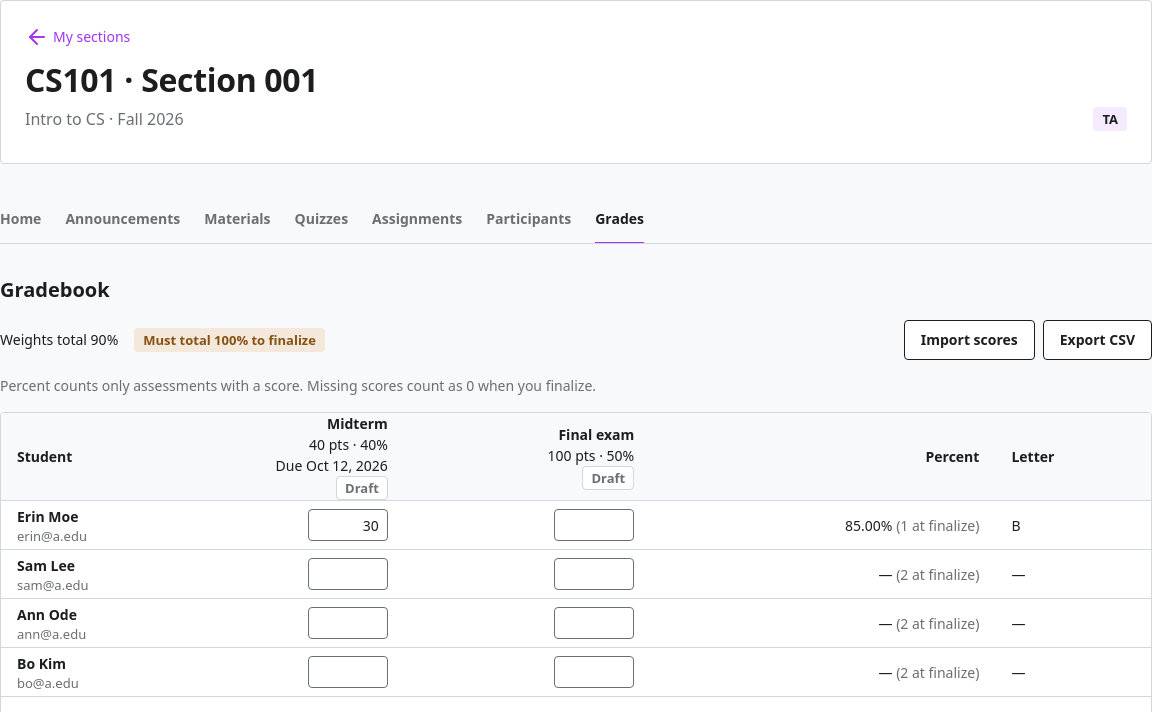
Import scores opens the dialog for staff and admins, not for plain members
The width and height of the screenshot is (1152, 712).
Click the button "Import scores" at (969, 340), box [904,320,1035,360]
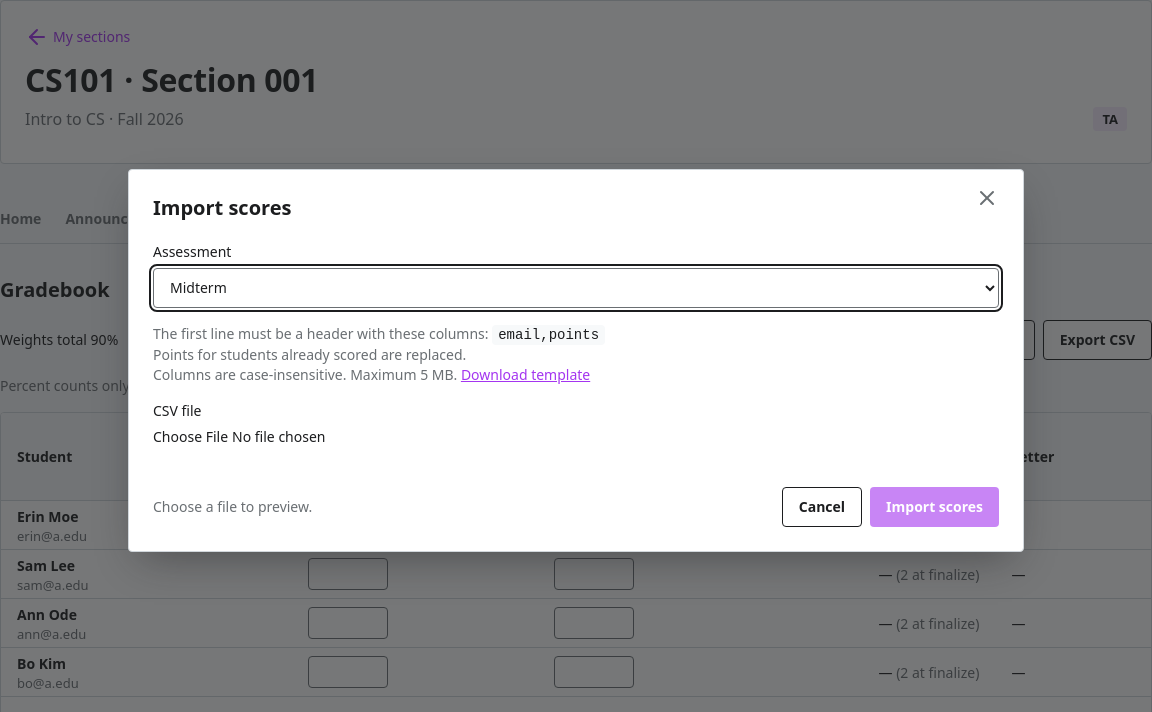
Check: the heading "Import scores" is shown, box [153,194,292,220]
